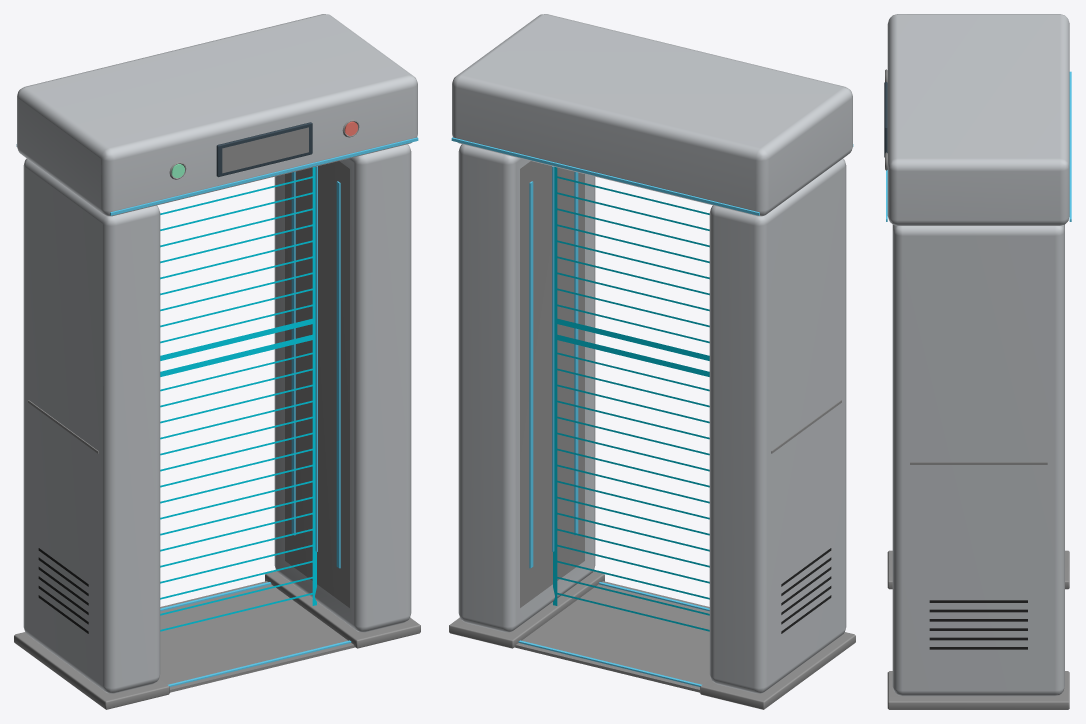
File: Security_Gate_Scanner.fbx
The picture shows the model from 3 angles, left to right: view 1: azimuth 30°, elevation 25°; view 2: azimuth 150°, elevation 25°; view 3: azimuth 270°, elevation 25°; orthographic projection.
Parts seen in each view (by area): view 1: Security_Gate_Scanner_LOD0; view 2: Security_Gate_Scanner_LOD0; view 3: Security_Gate_Scanner_LOD0.
Part boxes in pixels (x1=…): Security_Gate_Scanner_LOD0: x1=14, y1=14, x2=420, y2=709; Security_Gate_Scanner_LOD0: x1=449, y1=14, x2=855, y2=709; Security_Gate_Scanner_LOD0: x1=884, y1=14, x2=1071, y2=709.
Size of what is drawn, in the model's own units: 1.46 by 2.46 by 0.7625.
